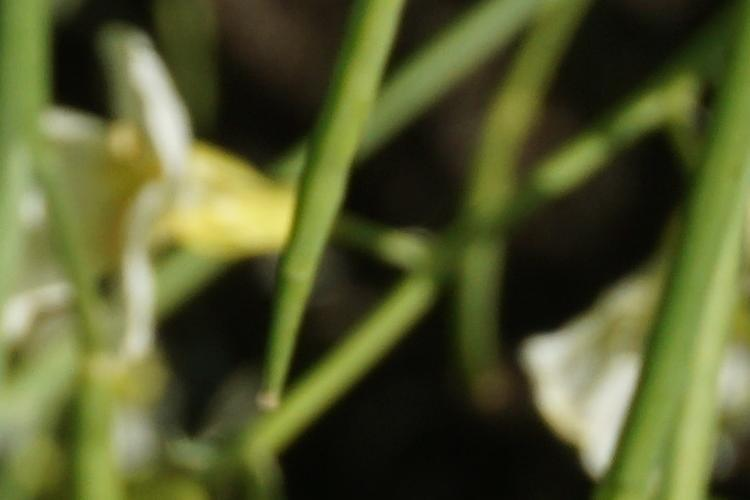white: (94, 57, 321, 348), (544, 254, 750, 478)
